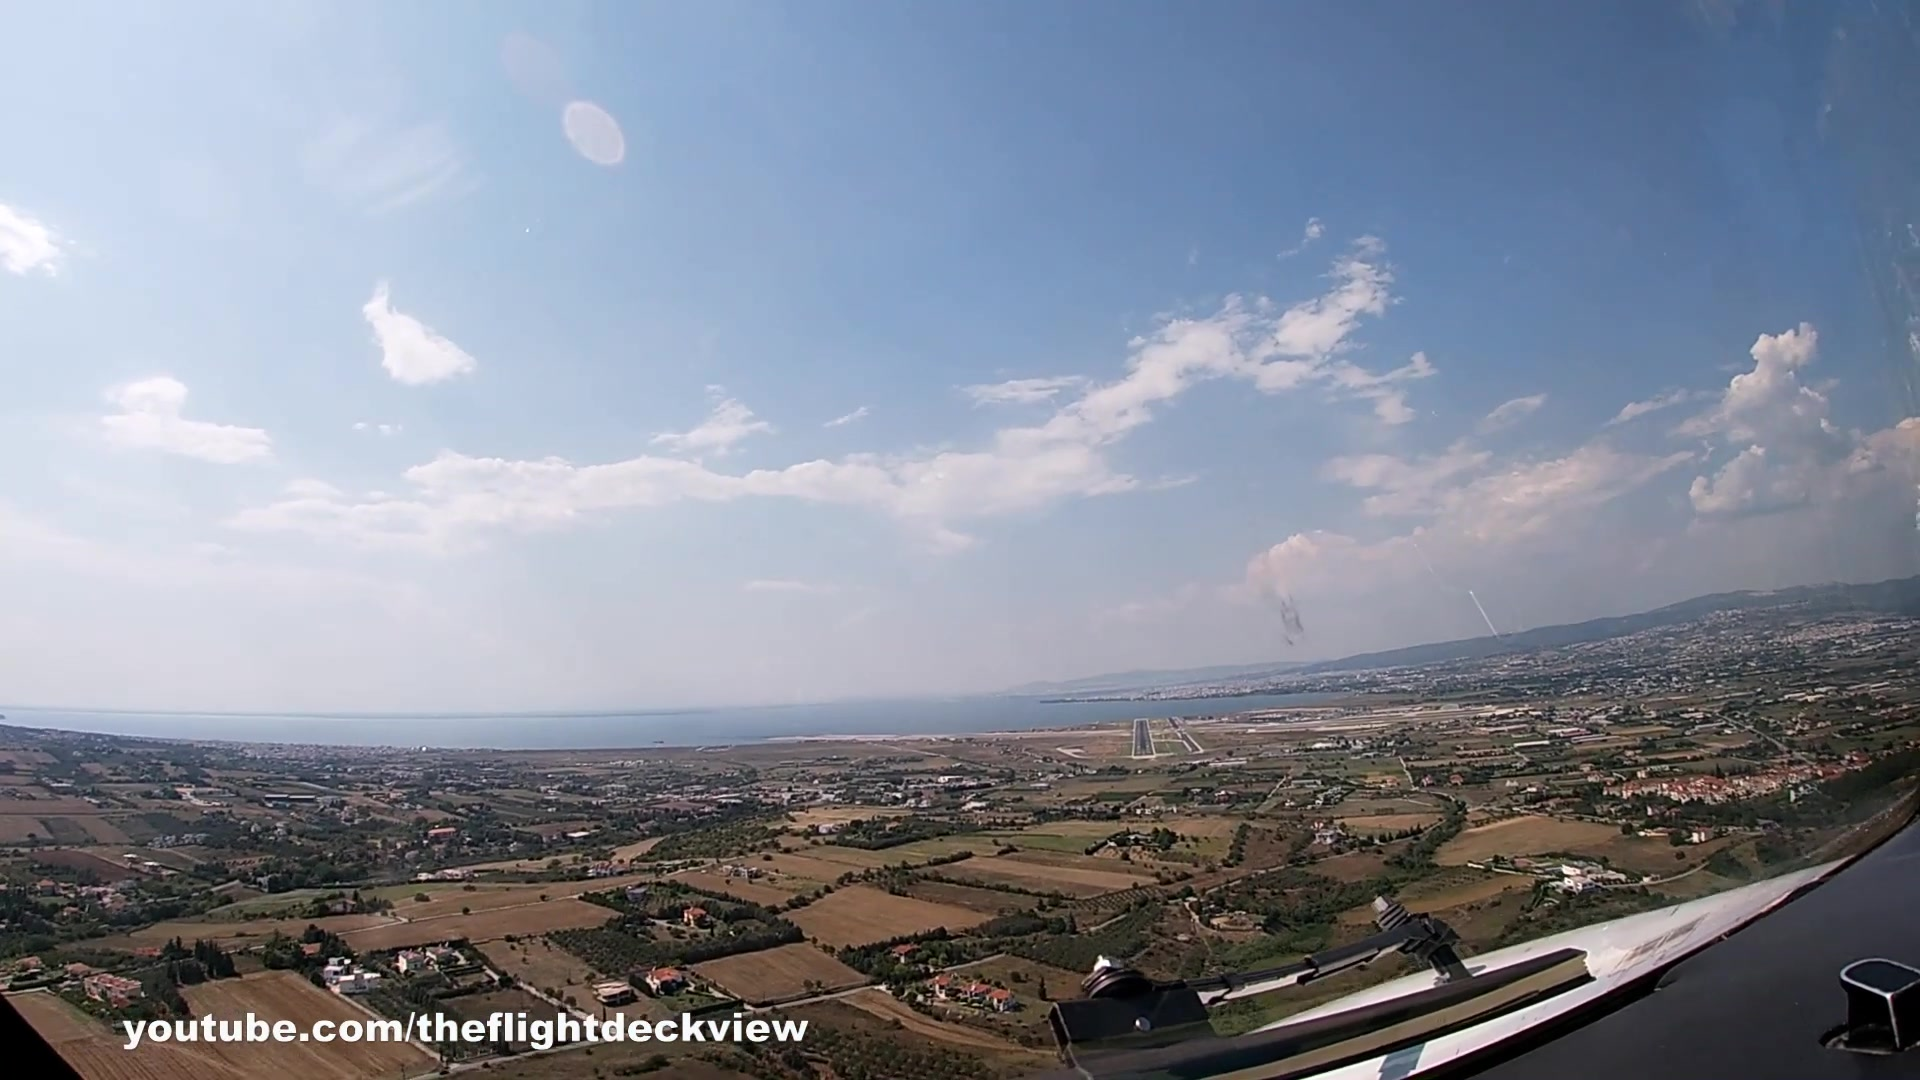runway: (1129, 717, 1156, 760)
